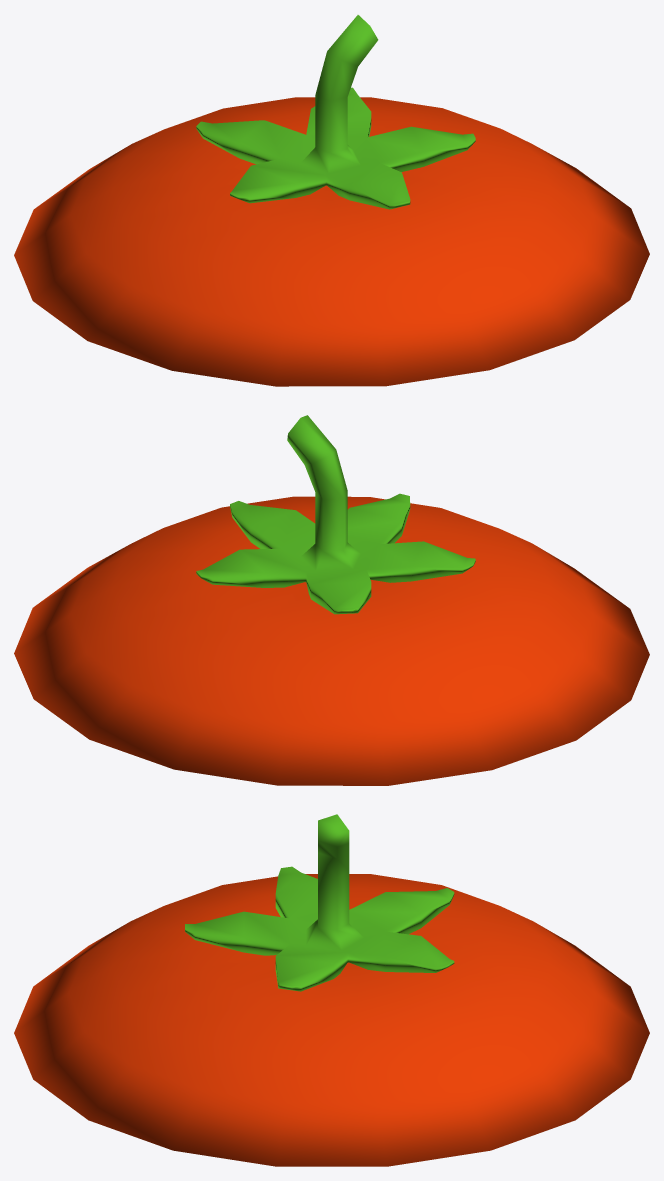
The model's file is TomatoSlice_top.fbx.
3 renders of one model, top to bottom at view 1: azimuth 30°, elevation 25°; view 2: azimuth 150°, elevation 25°; view 3: azimuth 270°, elevation 25°, orthographic.
Parts seen in each view (by area): view 1: top slice; view 2: top slice; view 3: top slice.
Boxes of the visible parts, x1=… form: top slice: x1=14, y1=15, x2=649, y2=386; top slice: x1=14, y1=415, x2=649, y2=785; top slice: x1=14, y1=814, x2=649, y2=1166.
Bounding box in the file's own units: 86.43 × 35.91 × 86.9.
